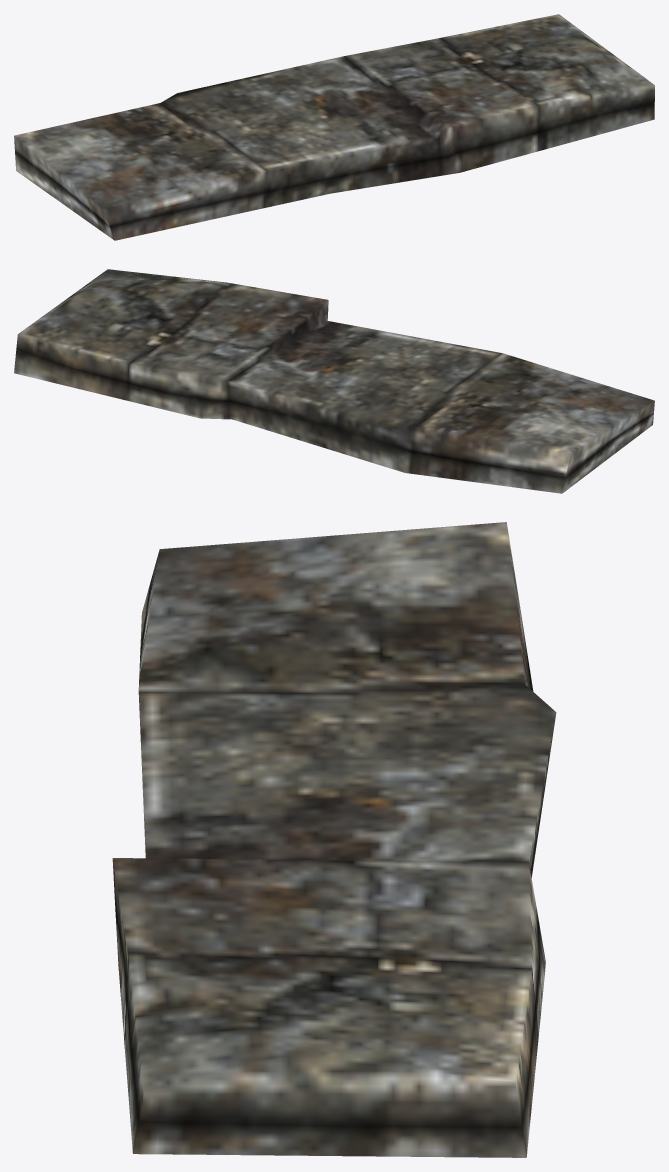
The model's file is Stair3_LOD1.fbx.
3 renders of one model, top to bottom at view 1: azimuth 30°, elevation 25°; view 2: azimuth 150°, elevation 25°; view 3: azimuth 270°, elevation 25°, orthographic. The views are drawn at different scales.
Parts seen in each view (by area): view 1: polySurface59; view 2: polySurface59; view 3: polySurface59.
Boxes of the visible parts, bbox=[...] form: polySurface59: bbox=[14, 14, 654, 240]; polySurface59: bbox=[14, 269, 654, 493]; polySurface59: bbox=[112, 522, 556, 1157].
Bounding box in the file's own units: 8.75 × 0.7784 × 3.06.
